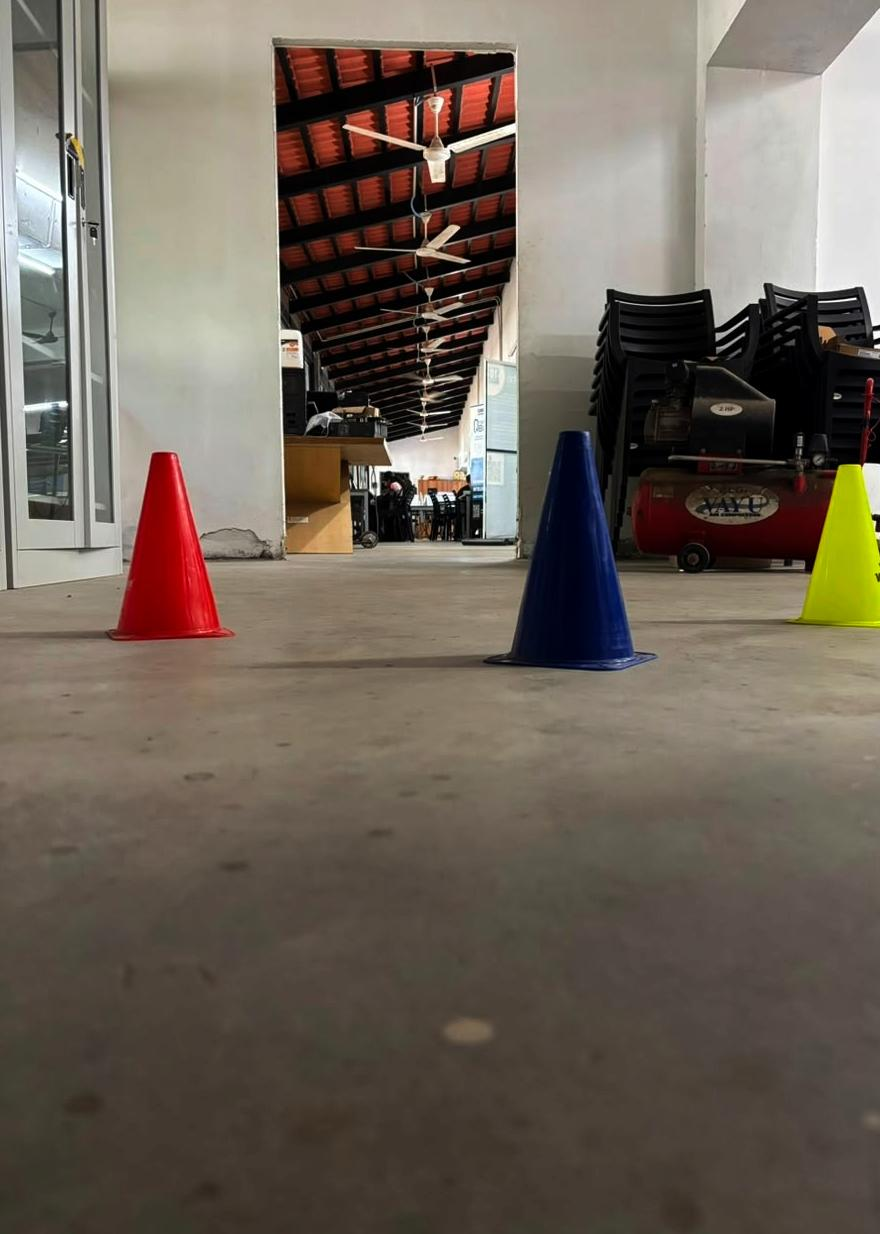0 cone: (485, 431, 654, 671), (486, 432, 654, 670), (109, 453, 232, 640), (111, 454, 231, 639), (791, 465, 880, 627), (794, 466, 880, 626)
